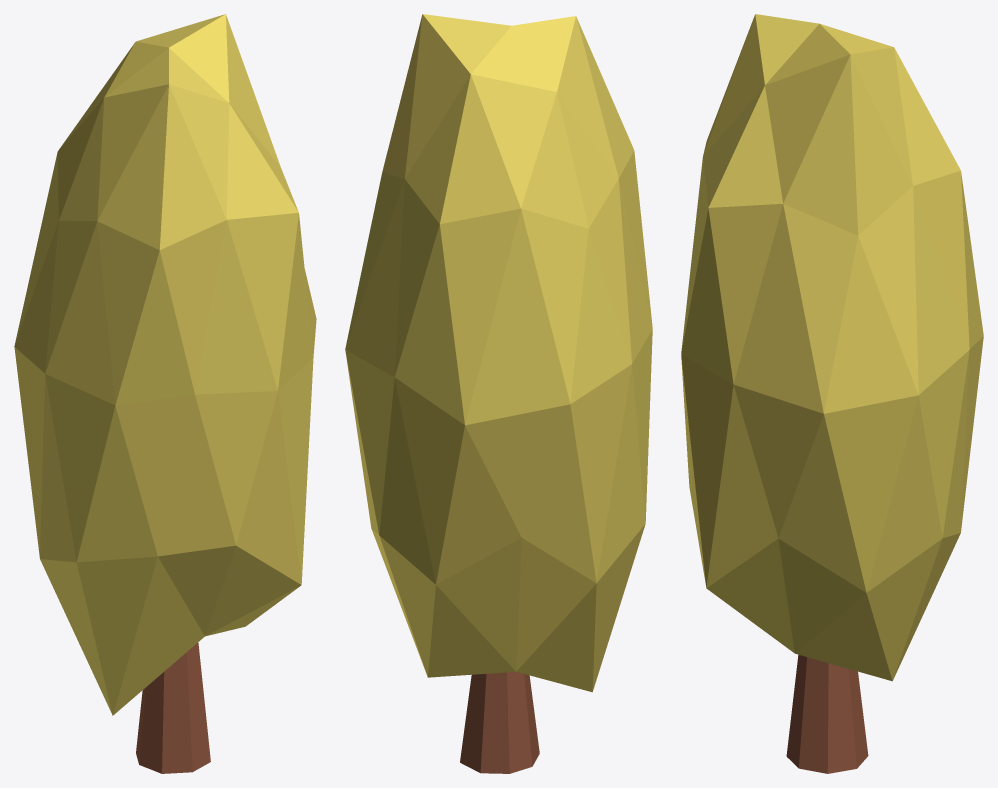
The model's file is tree2.gltf.
3 views of the same model, side by side, from view 1: azimuth 30°, elevation 25°; view 2: azimuth 150°, elevation 25°; view 3: azimuth 270°, elevation 25° (orthographic). The views are drawn at different scales.
Parts seen in each view (by area): view 1: Tree_05_autumn_mat; view 2: Tree_05_autumn_mat; view 3: Tree_05_autumn_mat.
Part boxes in pixels (left/top/right/bottom): Tree_05_autumn_mat: left=14, top=14, right=316, bottom=773; Tree_05_autumn_mat: left=345, top=14, right=652, bottom=773; Tree_05_autumn_mat: left=681, top=14, right=983, bottom=773.
Size of the model in its own units: 4.18 by 10.63 by 3.97.
